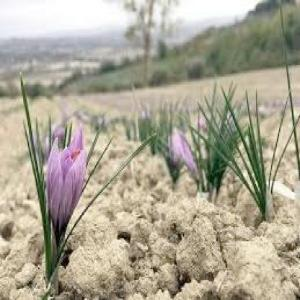Saffron: (47, 140, 90, 246)
